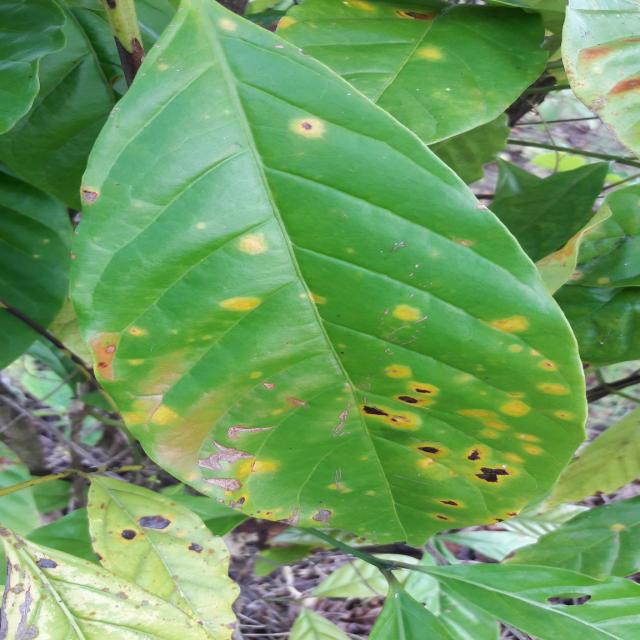Enfermedad-Roya: (68, 0, 588, 551)
